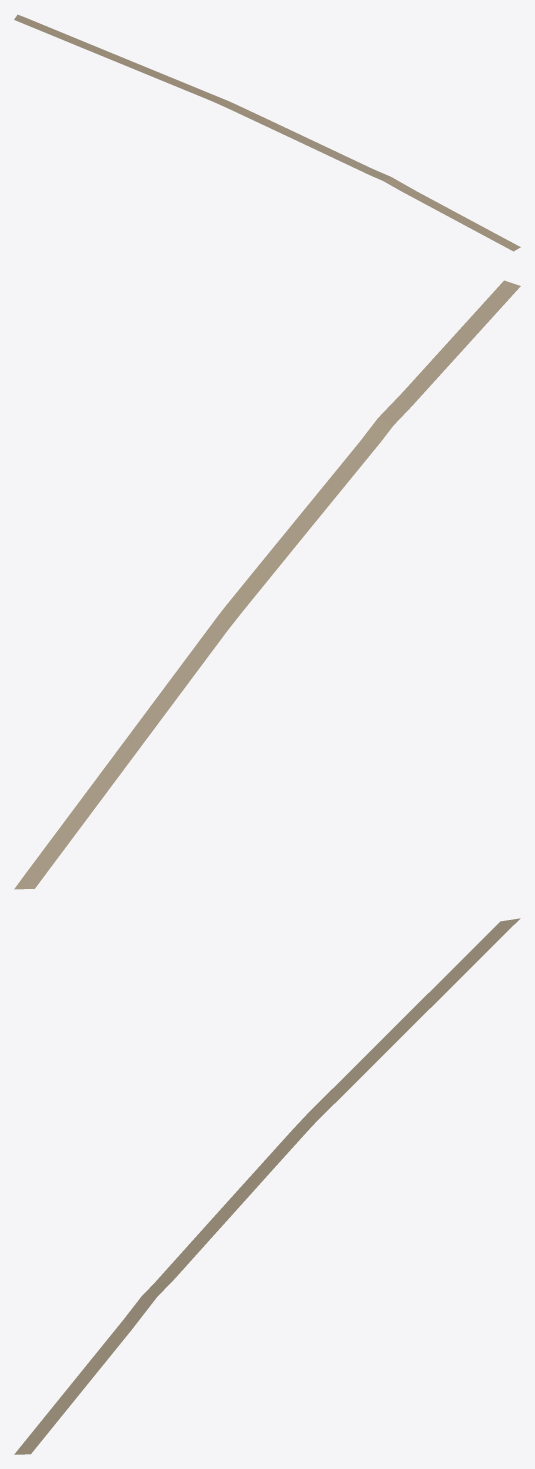
The model's file is farm_-21_-30_track.glb.
The picture shows the model from 3 angles, top to bottom: view 1: azimuth 30°, elevation 25°; view 2: azimuth 150°, elevation 25°; view 3: azimuth 330°, elevation 25°; orthographic projection. The views are drawn at different scales.
Visible parts, largest first — view 1: geometry_0; view 2: geometry_0; view 3: geometry_0.
Part boxes in pixels (x1=…): geometry_0: x1=14, y1=14, x2=520, y2=251; geometry_0: x1=14, y1=280, x2=520, y2=889; geometry_0: x1=14, y1=918, x2=520, y2=1454.
Size of the model in its own units: 49.09 by 9.6 by 260.
